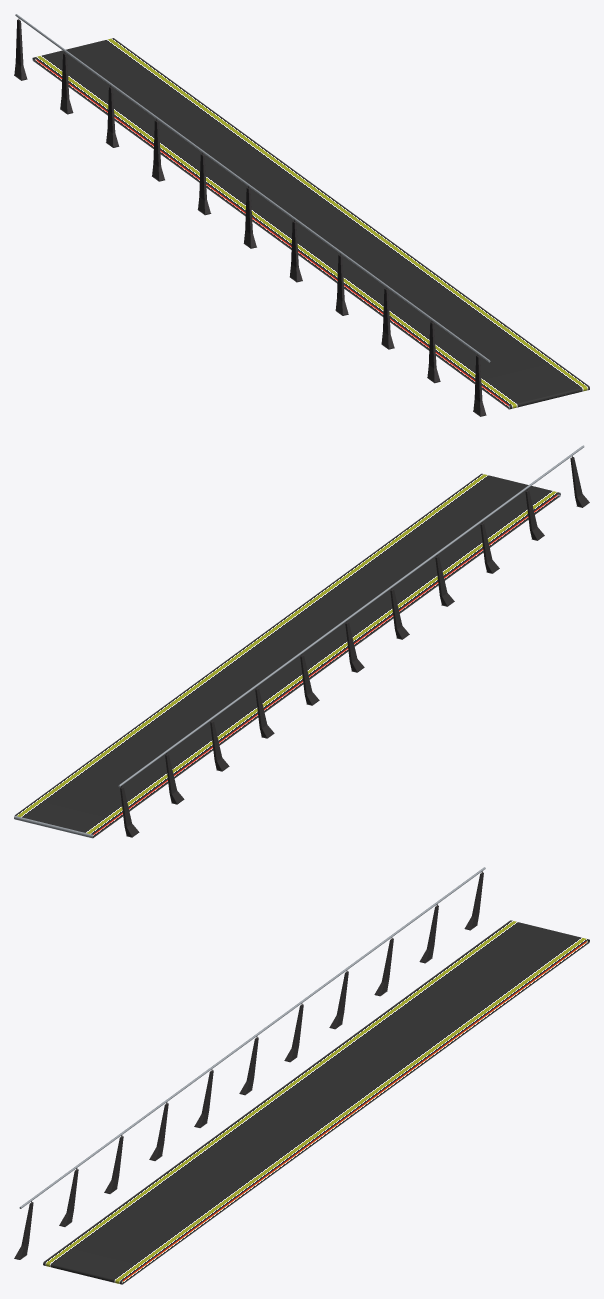
The model's file is assemblyline.fbx.
3 views of the same model, one above another, from view 1: azimuth 30°, elevation 25°; view 2: azimuth 150°, elevation 25°; view 3: azimuth 330°, elevation 25° (orthographic).
Visible parts, largest first — view 1: handrail; view 2: handrail; view 3: handrail.
Boxes of the visible parts, x1,y1,x2,y2 form: handrail: (14, 14, 589, 416); handrail: (14, 445, 589, 838); handrail: (14, 867, 589, 1284).
Size of the model in its own units: 200 by 97.44 by 1506.
